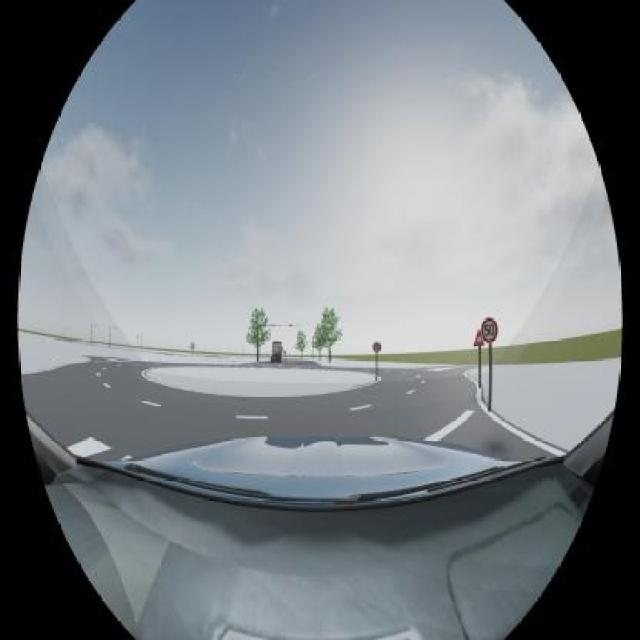forb_speed_over_50: (483, 318, 500, 342), (373, 341, 381, 353)
